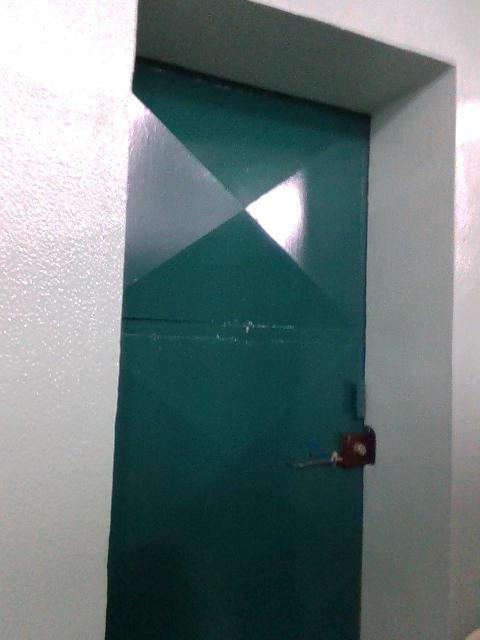door: (106, 60, 378, 640)
